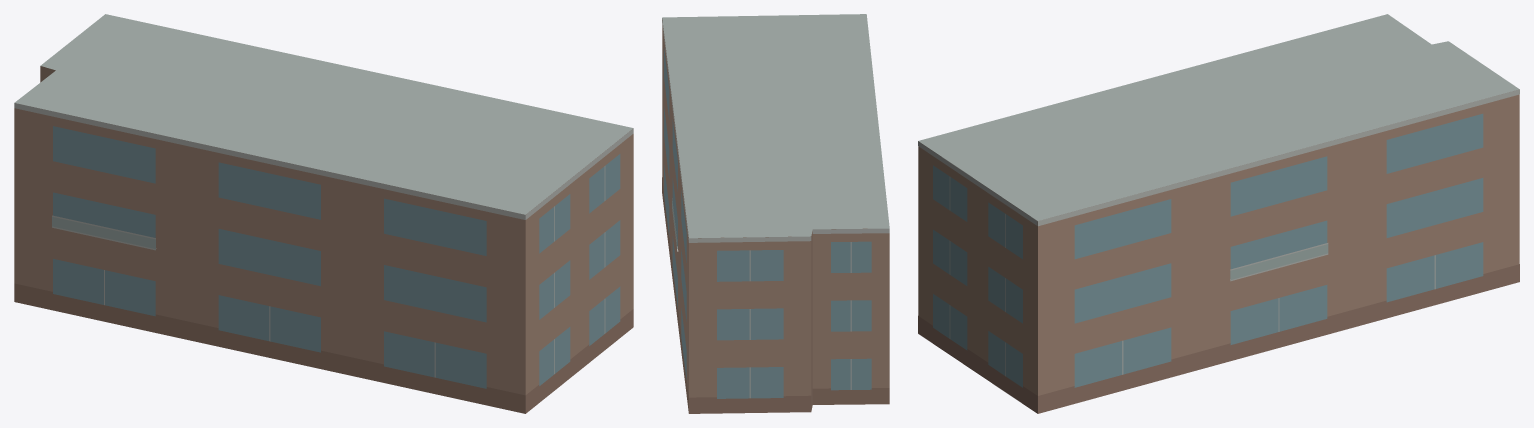
File: survey-upis-32711004.glb
The picture shows the model from 3 angles, left to right: view 1: azimuth 30°, elevation 25°; view 2: azimuth 150°, elevation 25°; view 3: azimuth 270°, elevation 25°; orthographic projection. The views are drawn at different scales.
Parts seen in each view (by area): view 1: survey-upis-32711004.tmp; view 2: survey-upis-32711004.tmp; view 3: survey-upis-32711004.tmp.
Boxes of the visible parts, left/top/right/bottom form: survey-upis-32711004.tmp: left=14, top=14, right=633, bottom=413; survey-upis-32711004.tmp: left=662, top=14, right=889, bottom=413; survey-upis-32711004.tmp: left=918, top=14, right=1519, bottom=413.
Bounding box in the file's own units: 21.11 × 9.15 × 25.9.
